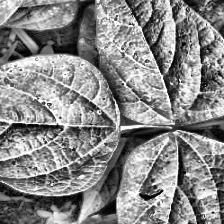Bean Rust: (0, 52, 119, 195), (93, 0, 224, 124), (115, 136, 224, 224)
